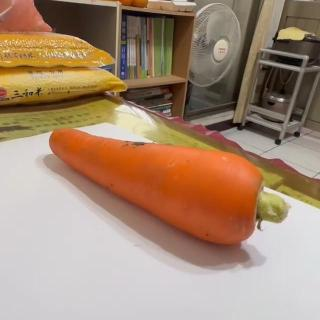carrot: (47, 128, 291, 246)
